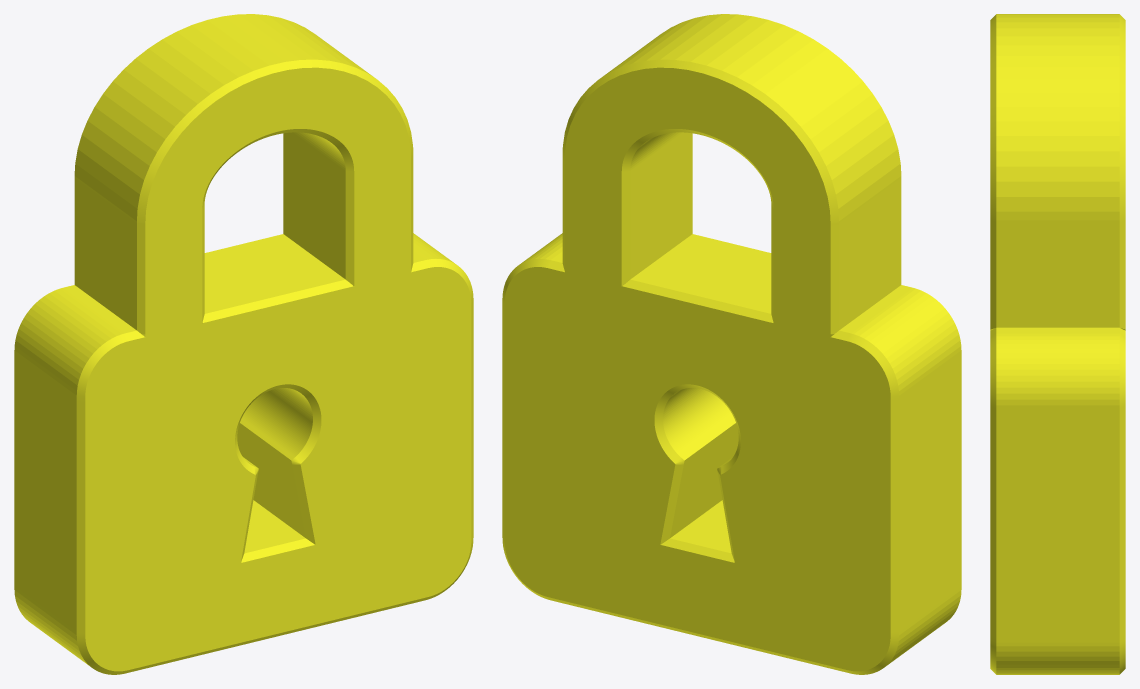
The model's file is lock.fbx.
3 views of the same model, side by side, from view 1: azimuth 30°, elevation 25°; view 2: azimuth 150°, elevation 25°; view 3: azimuth 270°, elevation 25° (orthographic).
Parts seen in each view (by area): view 1: Cap_2, Loft, Rounding_2; view 2: Cap_1, Loft, Rounding_1; view 3: Loft, Rounding_1, Rounding_2.
Boxes of the visible parts, box(x1,y1,x2,y2) form: Cap_2: box(85, 67, 471, 671); Loft: box(14, 14, 454, 665); Rounding_2: box(76, 59, 473, 674); Cap_1: box(504, 67, 890, 671); Loft: box(521, 14, 961, 665); Rounding_1: box(502, 59, 899, 674); Loft: box(996, 14, 1119, 674); Rounding_1: box(1119, 14, 1125, 674); Rounding_2: box(990, 14, 996, 674).
Bounding box in the file's own units: 3.67 × 5.06 × 1.1.
